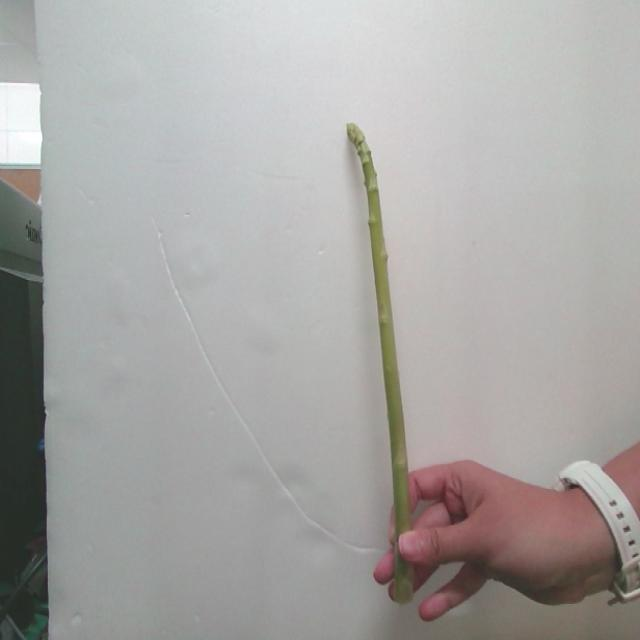aspargus: (347, 125, 413, 548)
